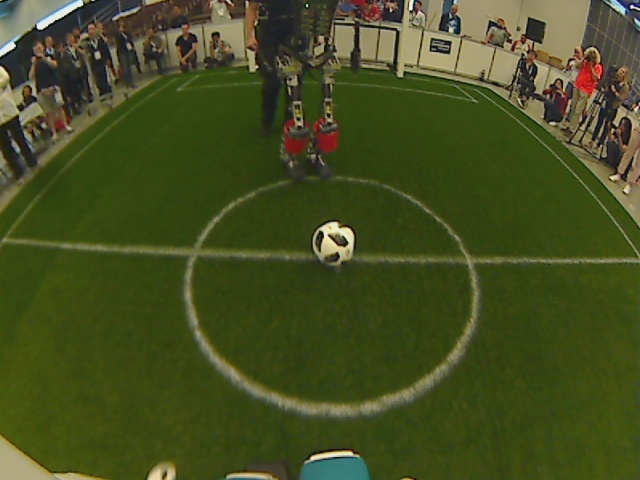ball: (310, 219, 357, 268)
goalpost: (389, 62, 409, 85), (242, 59, 258, 79)
robot: (276, 139, 341, 183)
